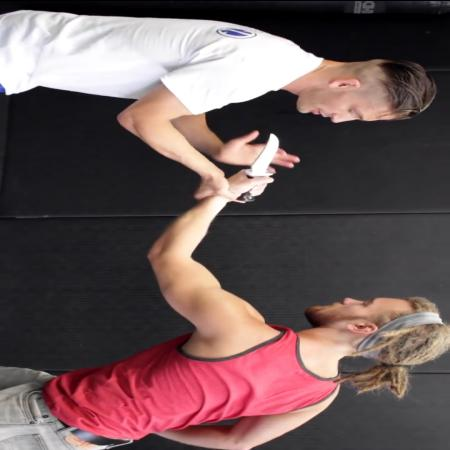long weapon: (231, 130, 290, 206)
